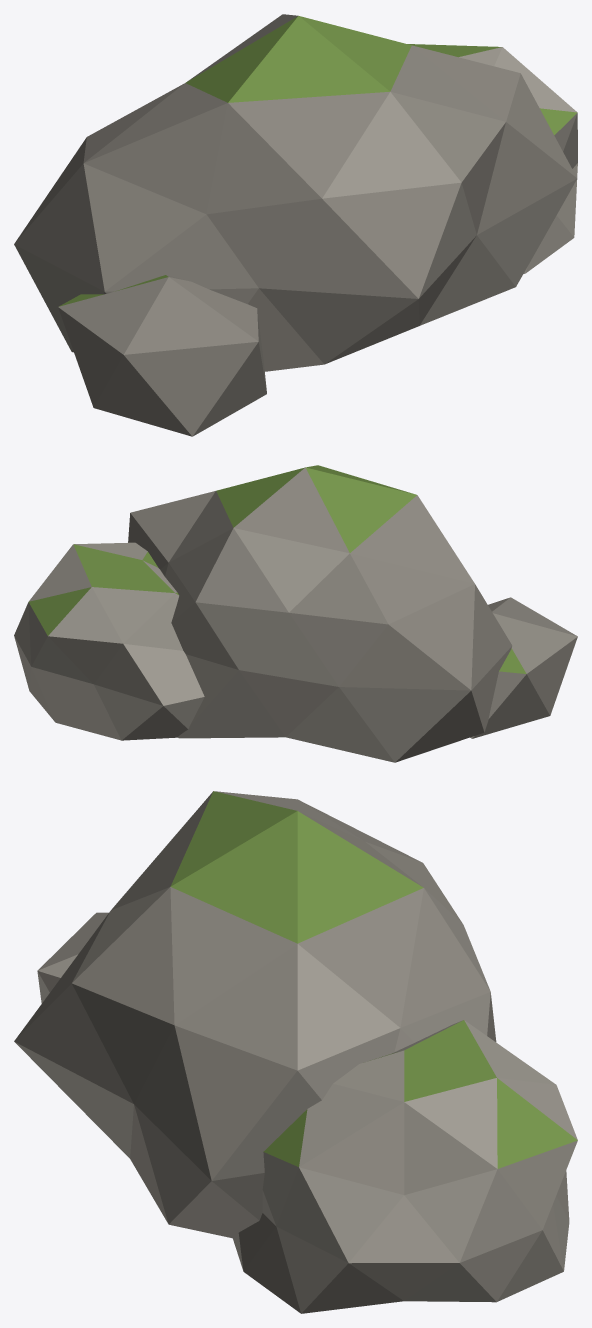
File: rock_big.glb
The picture shows the model from 3 angles, top to bottom: view 1: azimuth 30°, elevation 25°; view 2: azimuth 150°, elevation 25°; view 3: azimuth 270°, elevation 25°; orthographic projection. The views are drawn at different scales.
Visible parts, largest first — view 1: rock_big; view 2: rock_big; view 3: rock_big.
Part boxes in pixels (box(x1,y1,x2,y2)): rock_big: box(14, 14, 577, 436); rock_big: box(14, 465, 577, 762); rock_big: box(14, 791, 577, 1313).
Bounding box in the file's own units: 2.15 × 1.07 × 1.59.
